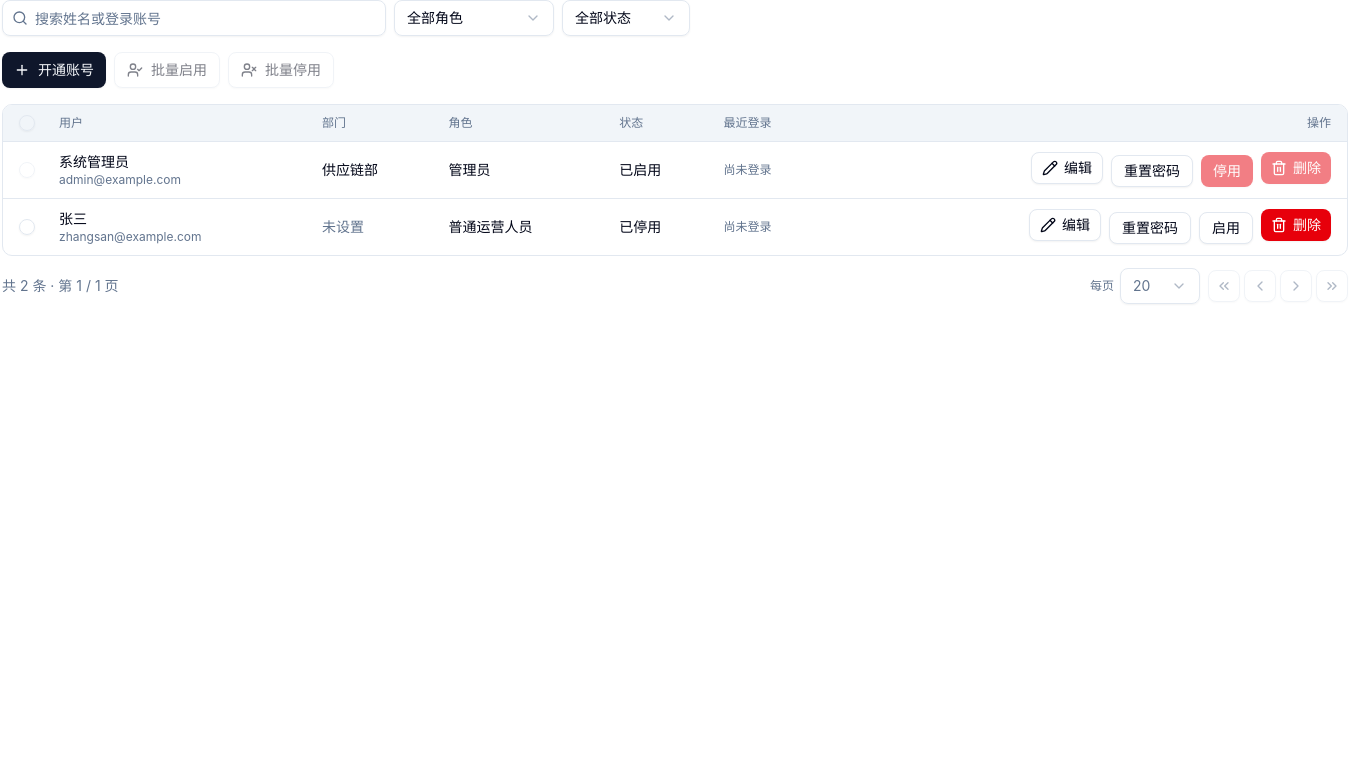
SettingsUsers › pre-fills the department configured by the administrator
Expected: the text "系统管理员" is shown, [59,152,129,170]
Click the button with aria-label "编辑 系统管理员".
click(1067, 168)  # box [1031,152,1103,184]
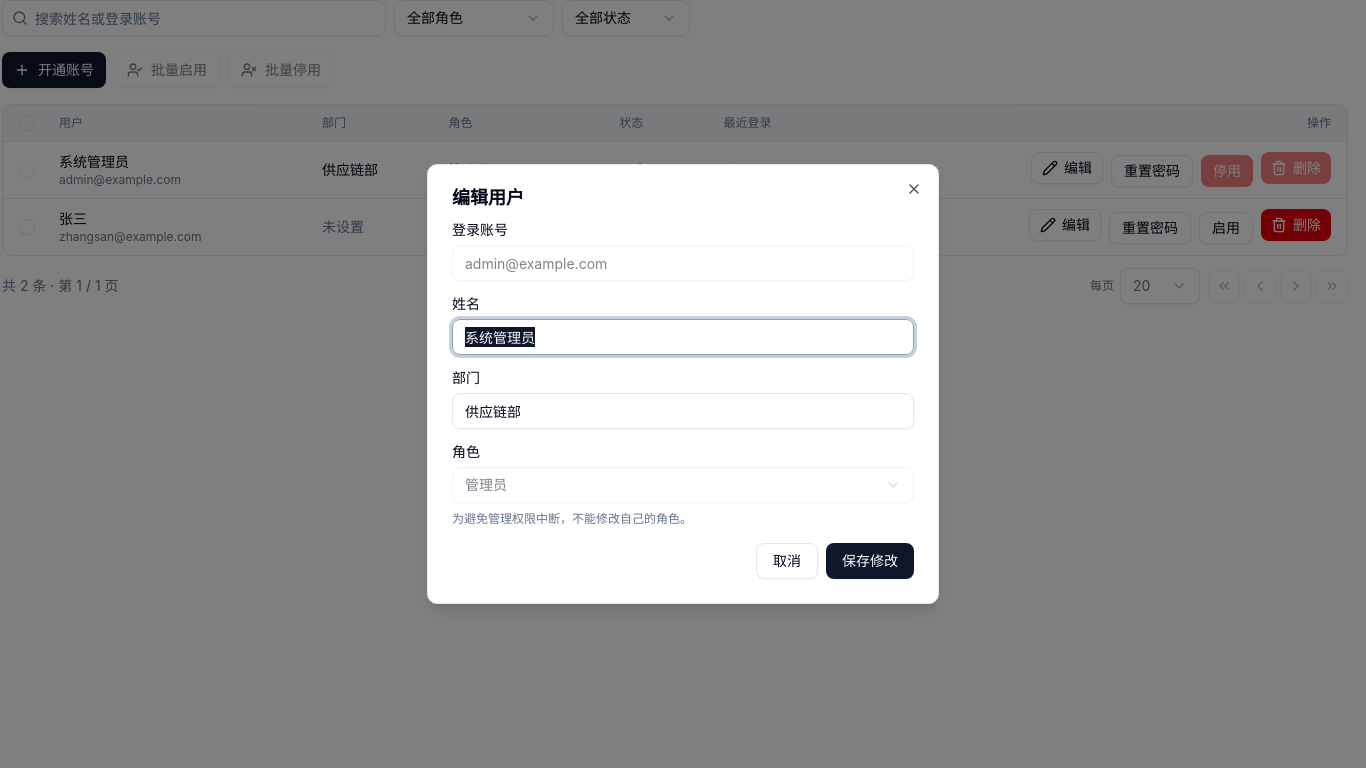
Now the field labelled "部门" holds "供应链部", box [452,393,914,429]
